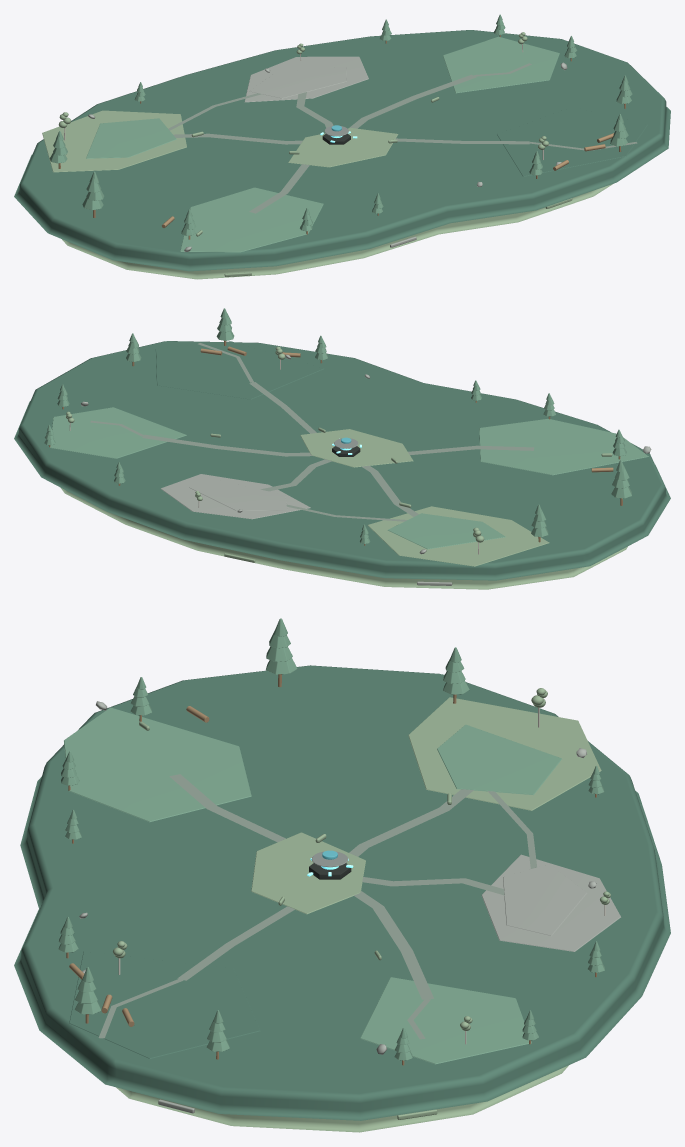
Rendered from career-world-environment.glb.
3 renders of one model, top to bottom at view 1: azimuth 30°, elevation 25°; view 2: azimuth 150°, elevation 25°; view 3: azimuth 270°, elevation 25°, orthographic. The views are drawn at different scales.
Visible parts, largest first — view 1: ENV_FloatingIsland_Topography, ENV_OfficeLawnZone_Visma, ENV_ForestFloorZone_Dasa, ENV_SchoolMossZone_Education, ENV_FloatingIsland_LayeredEdge, ENV_OpenGreenZone_Sodra, ENV_CentralMeadow_MossRise, ENV_Sodra_Entrance_LawnApron, ENV_UrbanStoneZone_Filmstaden, ENV_Filmstaden_Forecourt_DarkPaving, ENV_Path_To_Education, ENV_Path_To_Sodra (+2 smaller); view 2: ENV_FloatingIsland_Topography, ENV_OfficeLawnZone_Visma, ENV_ForestFloorZone_Dasa, ENV_OpenGreenZone_Sodra, ENV_SchoolMossZone_Education, ENV_FloatingIsland_LayeredEdge, ENV_CentralMeadow_MossRise, ENV_Sodra_Entrance_LawnApron, ENV_UrbanStoneZone_Filmstaden, ENV_Filmstaden_Forecourt_DarkPaving, ENV_Path_To_Education, ENV_Path_To_Visma (+2 smaller); view 3: ENV_FloatingIsland_Topography, ENV_OfficeLawnZone_Visma, ENV_ForestFloorZone_Dasa, ENV_OpenGreenZone_Sodra, ENV_SchoolMossZone_Education, ENV_Sodra_Entrance_LawnApron, ENV_CentralMeadow_MossRise, ENV_UrbanStoneZone_Filmstaden, ENV_FloatingIsland_LayeredEdge, ENV_Filmstaden_Forecourt_DarkPaving, ENV_Path_To_Education, ENV_Path_To_Visma (+3 smaller).
Boxes of the visible parts, <box> form: ENV_FloatingIsland_Topography: <box>14,30,670,271</box>; ENV_OfficeLawnZone_Visma: <box>180,187,323,252</box>; ENV_ForestFloorZone_Dasa: <box>497,107,647,176</box>; ENV_SchoolMossZone_Education: <box>443,36,559,93</box>; ENV_FloatingIsland_LayeredEdge: <box>62,184,612,279</box>; ENV_OpenGreenZone_Sodra: <box>42,110,186,172</box>; ENV_CentralMeadow_MossRise: <box>288,128,398,167</box>; ENV_Sodra_Entrance_LawnApron: <box>86,118,176,158</box>; ENV_UrbanStoneZone_Filmstaden: <box>244,56,368,102</box>; ENV_Filmstaden_Forecourt_DarkPaving: <box>249,67,346,98</box>; ENV_Path_To_Education: <box>348,74,476,128</box>; ENV_Path_To_Sodra: <box>173,133,302,144</box>; ENV_FloatingIsland_Topography: <box>14,341,670,580</box>; ENV_OfficeLawnZone_Visma: <box>479,418,648,475</box>; ENV_ForestFloorZone_Dasa: <box>155,341,323,399</box>; ENV_OpenGreenZone_Sodra: <box>367,506,549,566</box>; ENV_SchoolMossZone_Education: <box>50,407,186,458</box>; ENV_FloatingIsland_LayeredEdge: <box>61,488,627,589</box>; ENV_CentralMeadow_MossRise: <box>300,429,413,467</box>; ENV_Sodra_Entrance_LawnApron: <box>387,513,505,549</box>; ENV_UrbanStoneZone_Filmstaden: <box>160,474,310,519</box>; ENV_Filmstaden_Forecourt_DarkPaving: <box>189,480,287,511</box>; ENV_Path_To_Education: <box>142,434,313,456</box>; ENV_Path_To_Visma: <box>408,445,534,455</box>; ENV_FloatingIsland_Topography: <box>14,665,670,1120</box>; ENV_OfficeLawnZone_Visma: <box>64,707,251,822</box>; ENV_ForestFloorZone_Dasa: <box>69,951,260,1058</box>; ENV_OpenGreenZone_Sodra: <box>408,697,601,810</box>; ENV_SchoolMossZone_Education: <box>360,977,531,1064</box>; ENV_Sodra_Entrance_LawnApron: <box>437,724,561,795</box>; ENV_CentralMeadow_MossRise: <box>251,832,365,914</box>; ENV_UrbanStoneZone_Filmstaden: <box>481,854,620,951</box>; ENV_FloatingIsland_LayeredEdge: <box>116,1065,568,1132</box>; ENV_Filmstaden_Forecourt_DarkPaving: <box>503,864,586,936</box>; ENV_Path_To_Education: <box>354,891,433,999</box>; ENV_Path_To_Visma: <box>169,774,285,842</box>.
Bounding box in the file's own units: 11.67 × 1.94 × 7.36.
